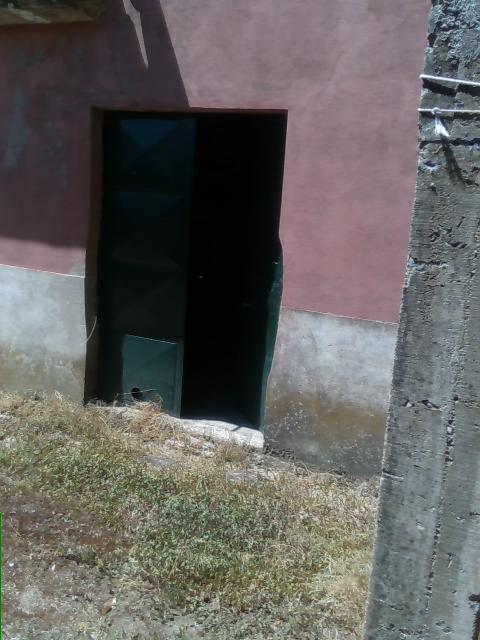open_door: (93, 102, 288, 441)
